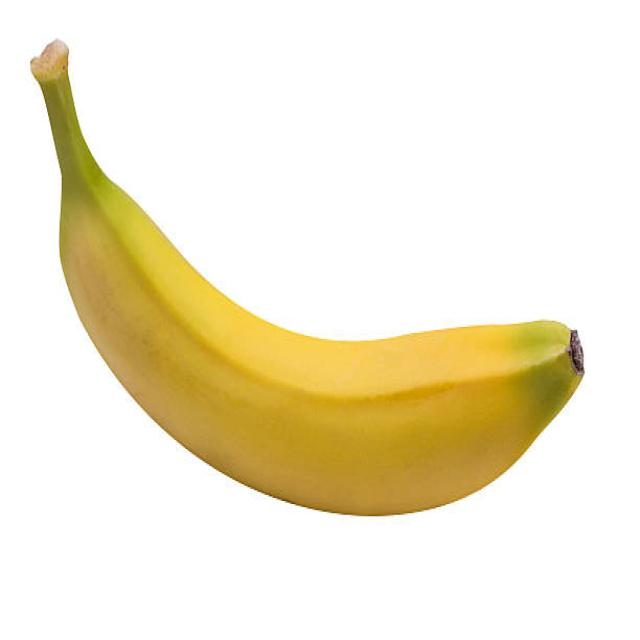banana: (30, 39, 587, 518)
